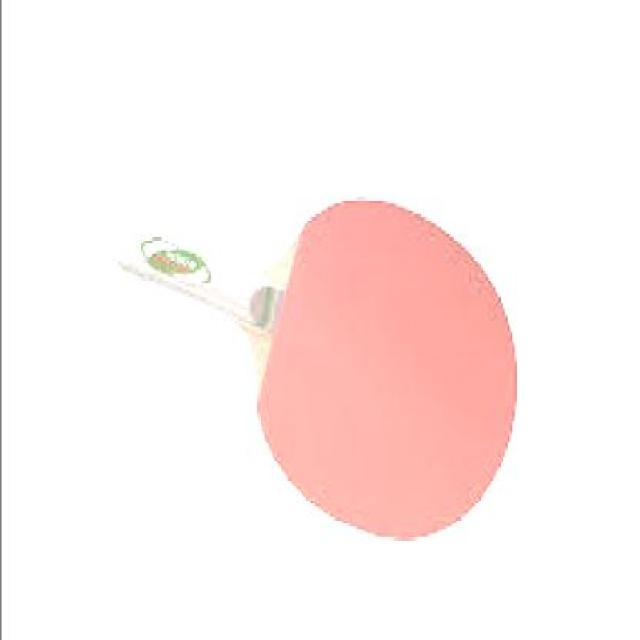table_tennis_racket: (255, 204, 523, 540)
